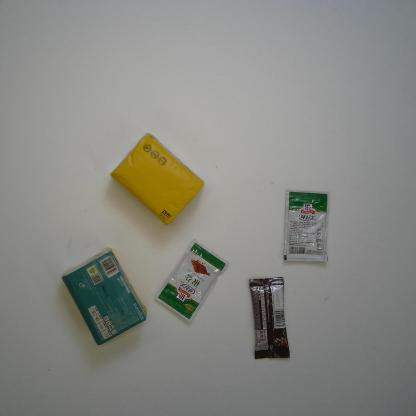Chocolate: (249, 276, 290, 360)
Seasoner: (154, 238, 230, 324), (283, 188, 331, 262)
Tissue: (109, 132, 205, 226), (61, 246, 148, 346)
